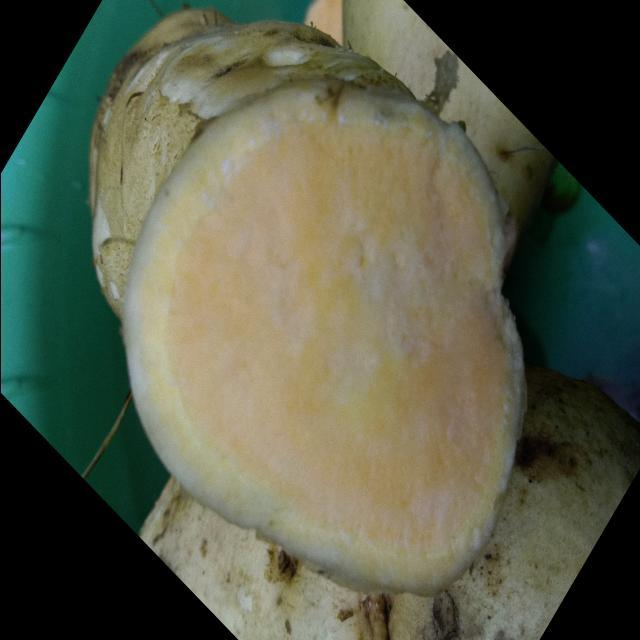Healthy Sweet Potato: (122, 82, 525, 595)
